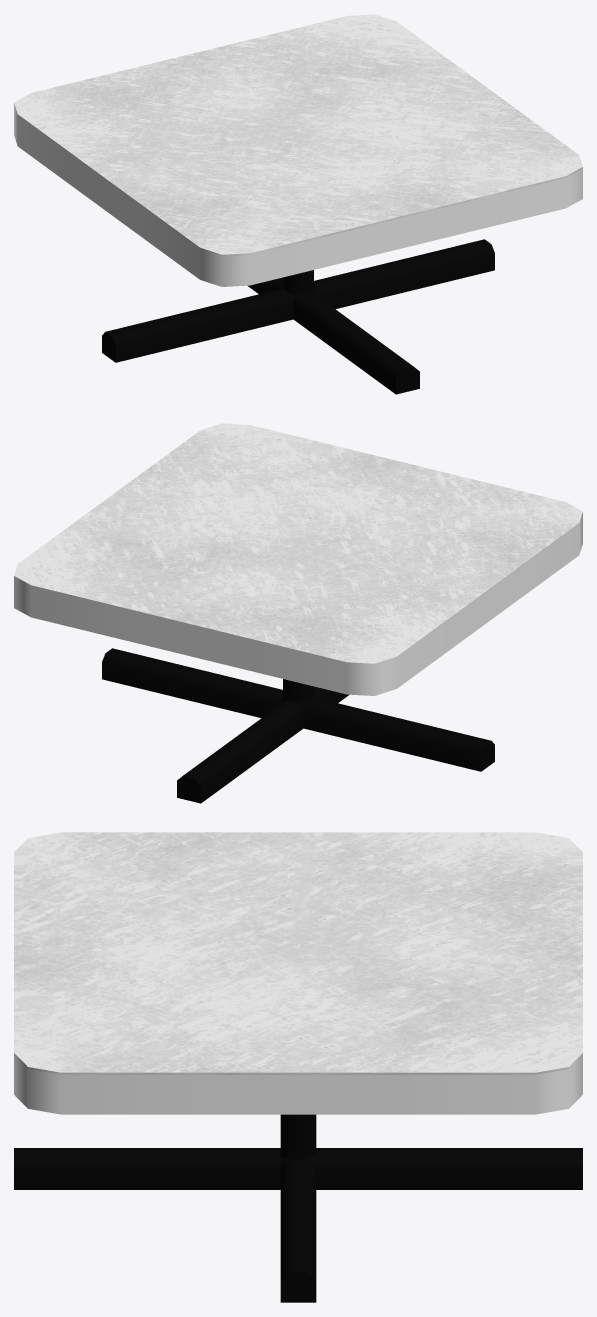
The model's file is UglyTable1.fbx.
3 renders of one model, top to bottom at view 1: azimuth 30°, elevation 25°; view 2: azimuth 150°, elevation 25°; view 3: azimuth 270°, elevation 25°, orthographic. The views are drawn at different scales.
Visible parts, largest first — view 1: SceneWithStuff3:pCube1; view 2: SceneWithStuff3:pCube1; view 3: SceneWithStuff3:pCube1.
Boxes of the visible parts, <box> form: SceneWithStuff3:pCube1: <box>14,14,582,394</box>; SceneWithStuff3:pCube1: <box>14,423,582,803</box>; SceneWithStuff3:pCube1: <box>14,832,582,1302</box>.
Bounding box in the file's own units: 1 × 0.4459 × 1.
Materials: 2 (2 with a texture image).
